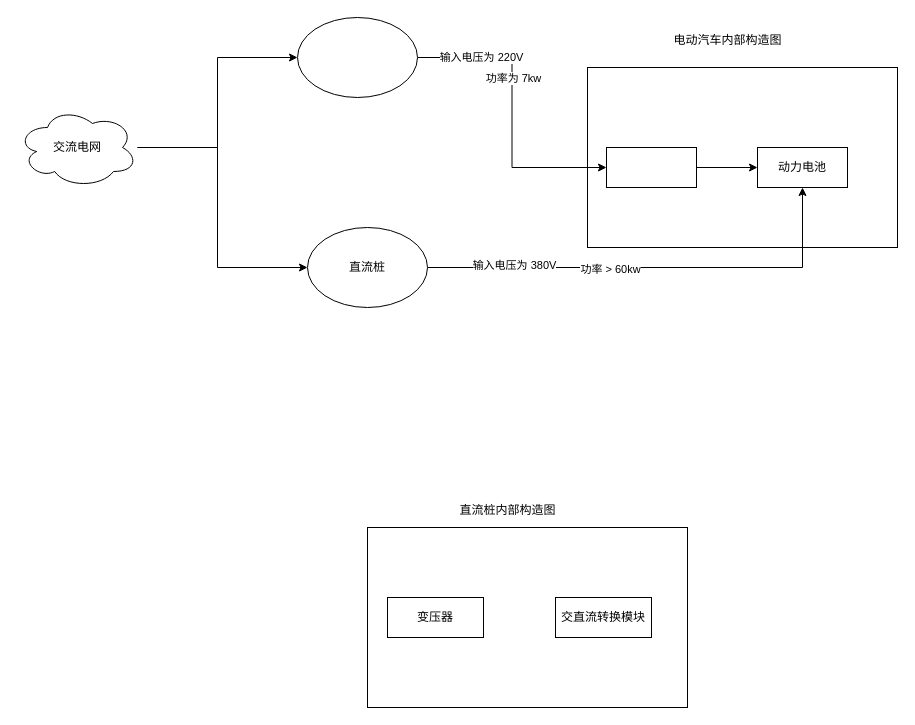
This 915x725 diagram has some shape labels left out. The shapes that lost their labels are listed below. From the top down, each one's centre as x and y in pixels, then its label:
At point (357, 57): "交流桩".
At point (651, 167): "车载充电机".
